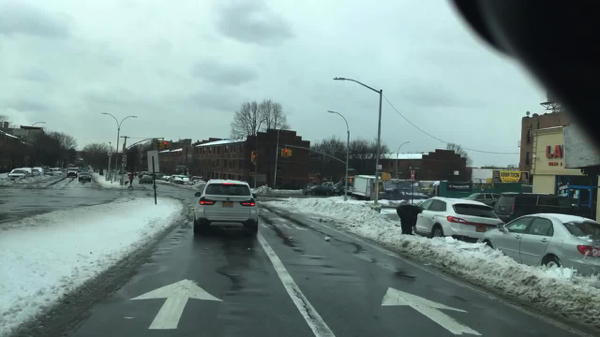car: (476, 213, 599, 276), (411, 196, 502, 239), (192, 178, 259, 235), (494, 193, 581, 221), (460, 191, 497, 206), (7, 168, 29, 178), (139, 174, 153, 184), (76, 173, 93, 181), (66, 167, 78, 178), (173, 177, 183, 186), (169, 174, 183, 180), (53, 166, 65, 173), (43, 169, 54, 176), (20, 167, 32, 173), (31, 169, 40, 176), (157, 173, 164, 181), (138, 169, 144, 178), (193, 176, 203, 180), (184, 177, 190, 183), (81, 169, 88, 174), (35, 167, 43, 171), (162, 176, 171, 179), (78, 166, 80, 173)
person: (396, 205, 423, 233), (127, 172, 134, 187), (134, 171, 137, 178)
traffic light: (381, 173, 391, 181), (287, 150, 294, 159), (251, 151, 257, 160), (157, 140, 162, 150), (279, 149, 285, 157), (164, 141, 168, 150), (284, 148, 287, 158)
traffic sign: (147, 150, 160, 173), (408, 166, 417, 182), (121, 154, 126, 167), (348, 168, 355, 171), (377, 165, 381, 170)
truck: (352, 176, 396, 196), (302, 182, 335, 196), (332, 178, 352, 194), (411, 180, 444, 189)
